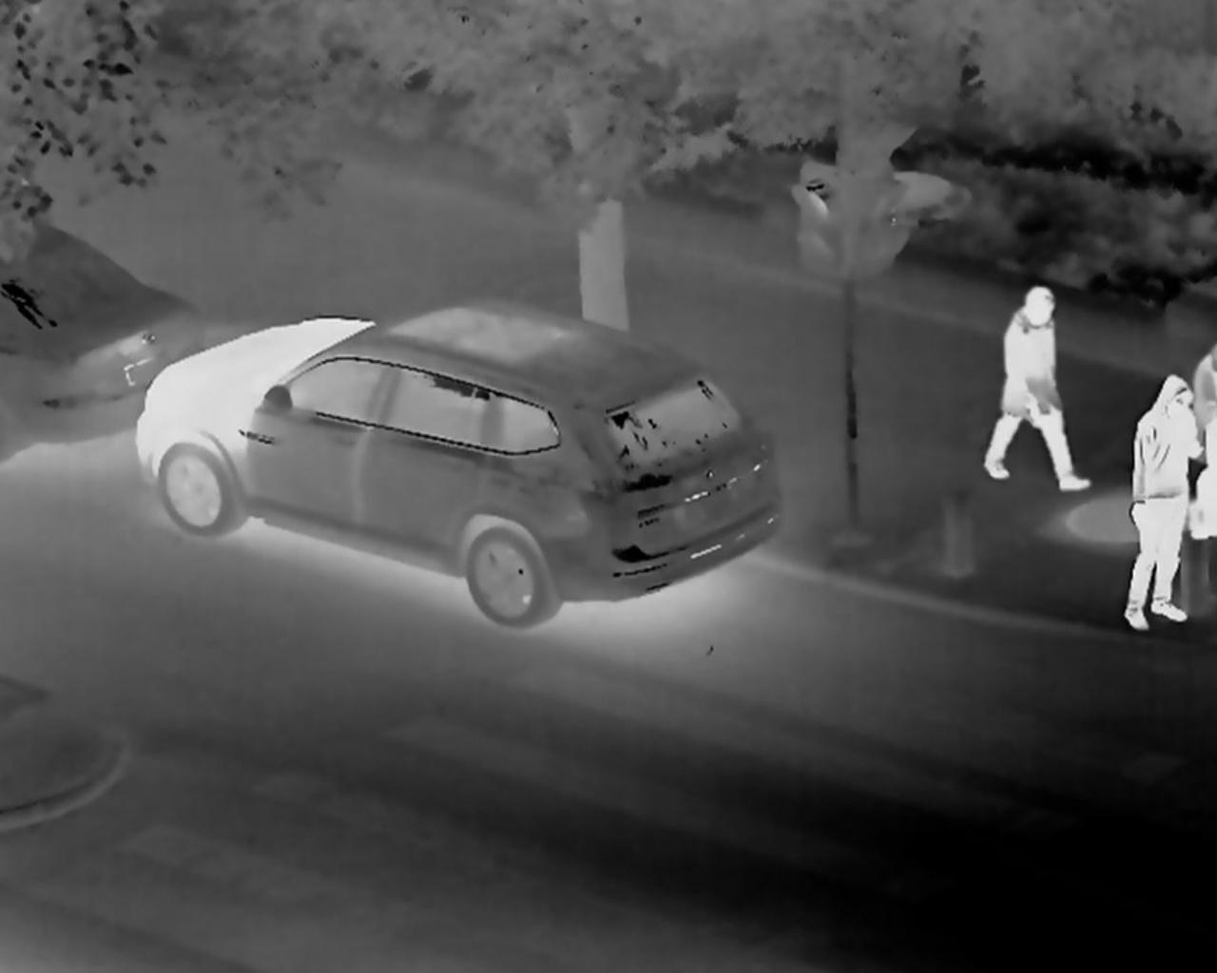person: (982, 278, 1095, 494), (1120, 366, 1193, 630)
